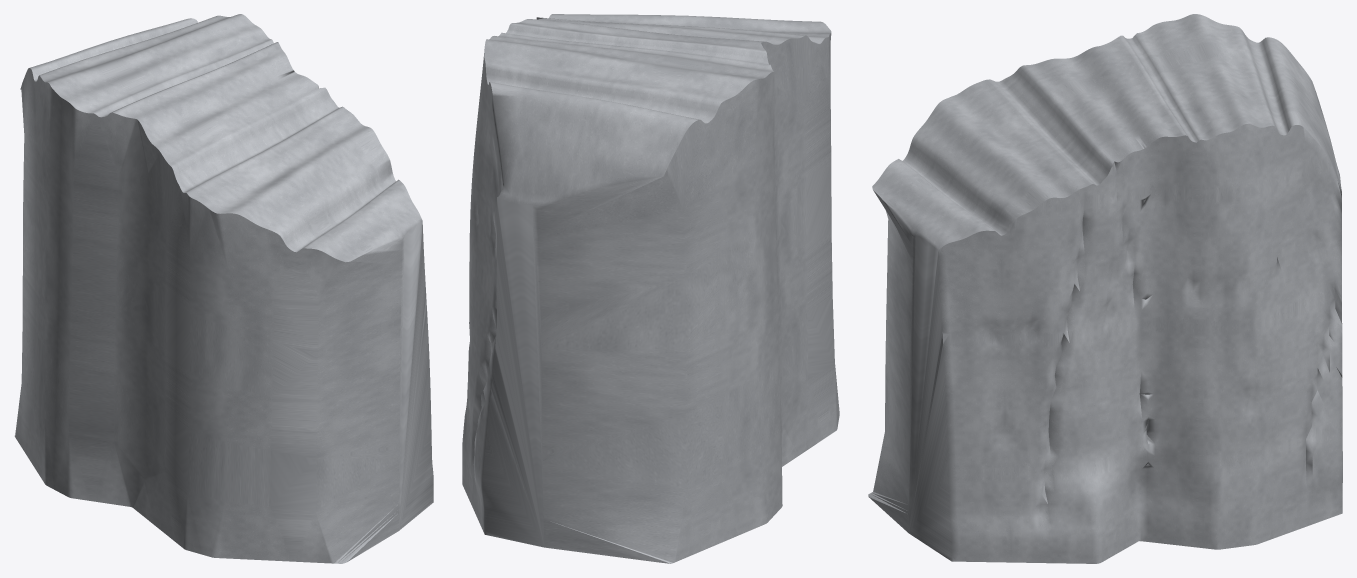
The model's file is refined-lod1.glb.
3 views of the same model, side by side, from view 1: azimuth 30°, elevation 25°; view 2: azimuth 150°, elevation 25°; view 3: azimuth 270°, elevation 25° (orthographic). The views are drawn at different scales.
Parts seen in each view (by area): view 1: Refined_Pair_LOD1; view 2: Refined_Pair_LOD1; view 3: Refined_Pair_LOD1.
Boxes of the visible parts, x1,y1,x2,y2 form: Refined_Pair_LOD1: [14, 14, 433, 563]; Refined_Pair_LOD1: [462, 14, 839, 563]; Refined_Pair_LOD1: [868, 14, 1342, 563].
Bounding box in the file's own units: 23.6 × 32.19 × 33.55.
Materials: 1 (1 with a texture image).
